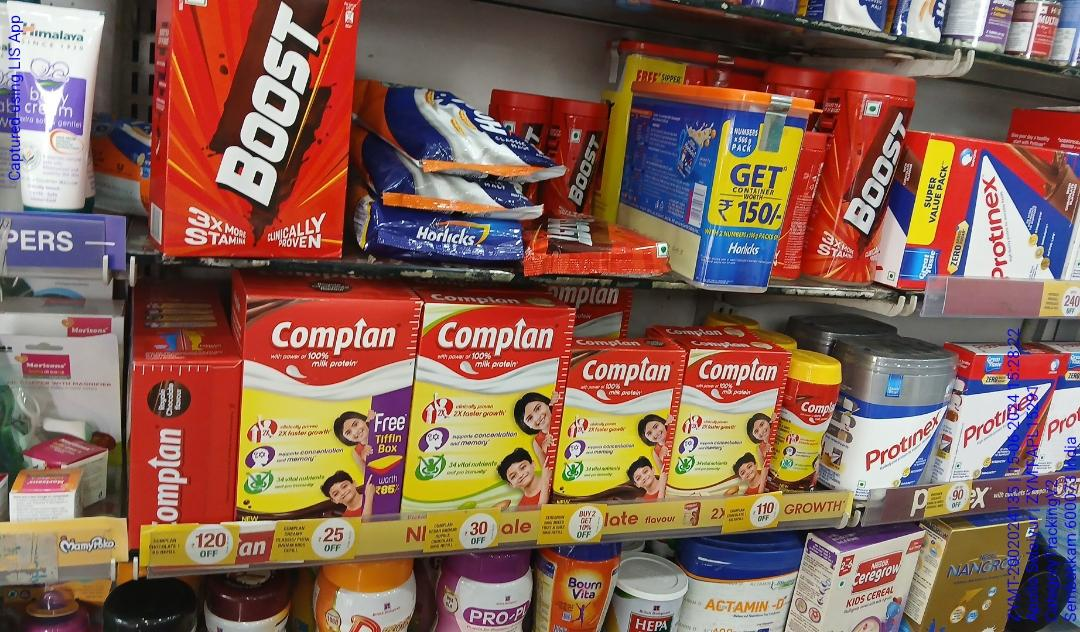COMPLAN_CHOCOLATE_200_GMS_PACK: (560, 349, 667, 502)
COMPLAN_CHOCOLATE_500_GMS_PACK: (244, 299, 405, 518)
COMPLAN_KESAR_BADAM_200_GMS_PACK: (685, 349, 766, 493)
COMPLAN_KESAR_BADAM_500_GMS_PACK: (417, 304, 550, 505)
PROTINEX_ORIGINAL_400_G_JAR: (850, 354, 944, 486)
